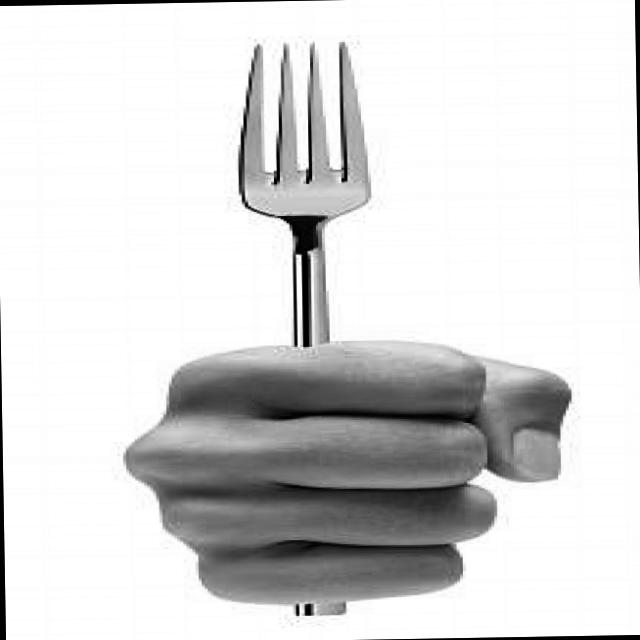fork: (230, 34, 381, 619)
